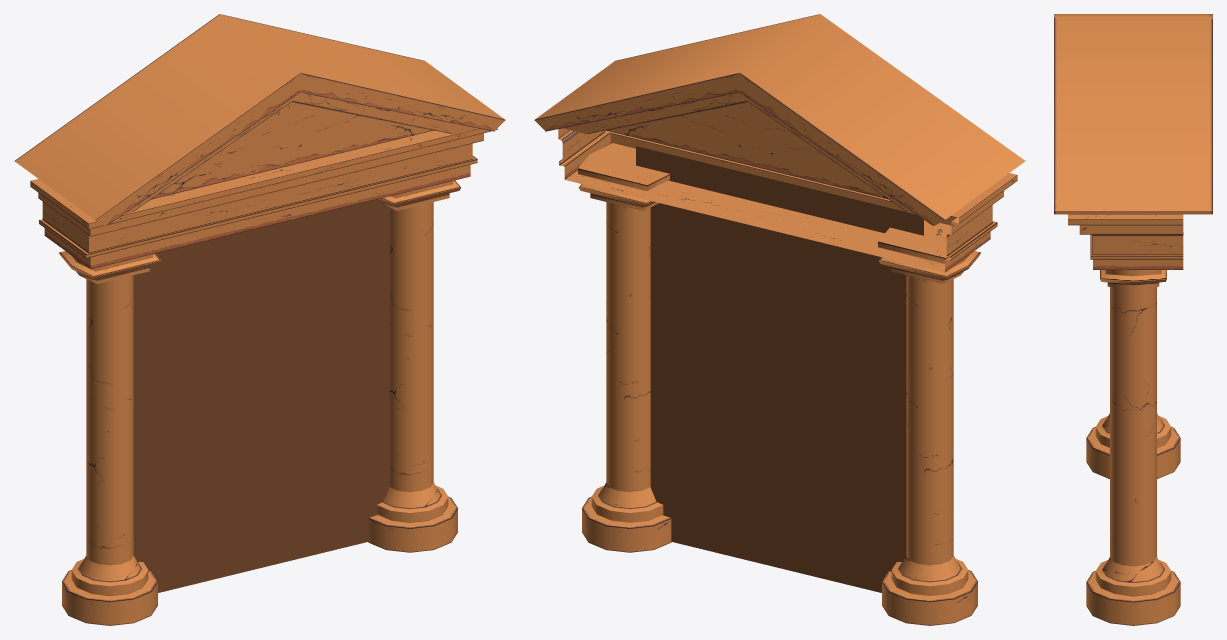
File: Petra_Door.fbx
The picture shows the model from 3 angles, left to right: view 1: azimuth 30°, elevation 25°; view 2: azimuth 150°, elevation 25°; view 3: azimuth 270°, elevation 25°; orthographic projection.
Visible parts, largest first — view 1: Petra_Door; view 2: Petra_Door; view 3: Petra_Door.
Part boxes in pixels (left/top/right/bottom): Petra_Door: left=14, top=14, right=505, bottom=625; Petra_Door: left=534, top=14, right=1025, bottom=625; Petra_Door: left=1054, top=14, right=1212, bottom=625.
Bounding box in the file's own units: 999 × 341 × 1222.
